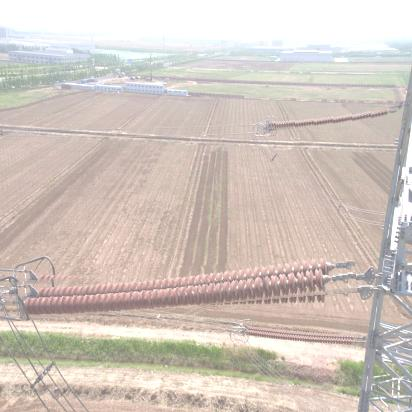insulator: (19, 261, 358, 315), (270, 103, 399, 135)
